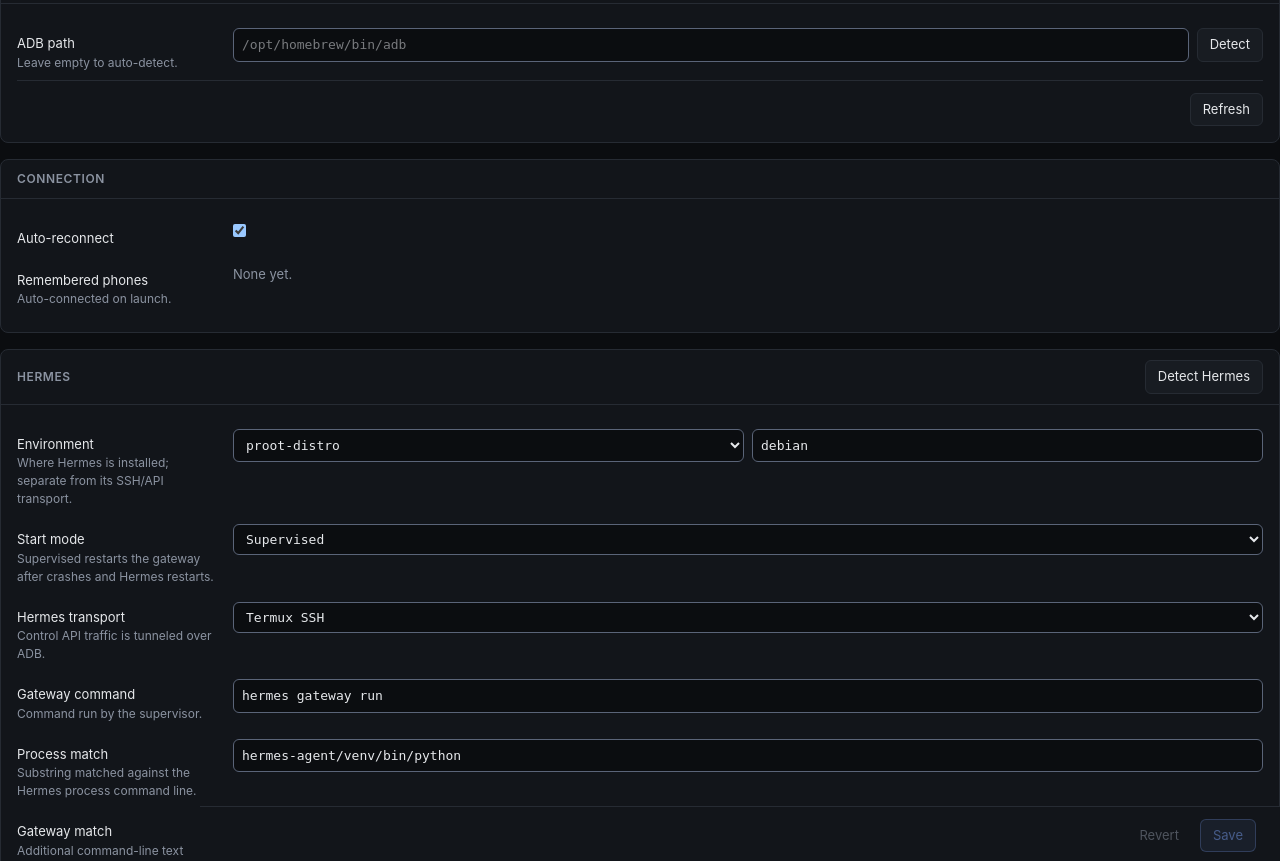
Test case: SettingsView › shows validation errors from the backend
Type "/nope" into the field named "ADB path" at [711, 45], box [233,28,1189,62]
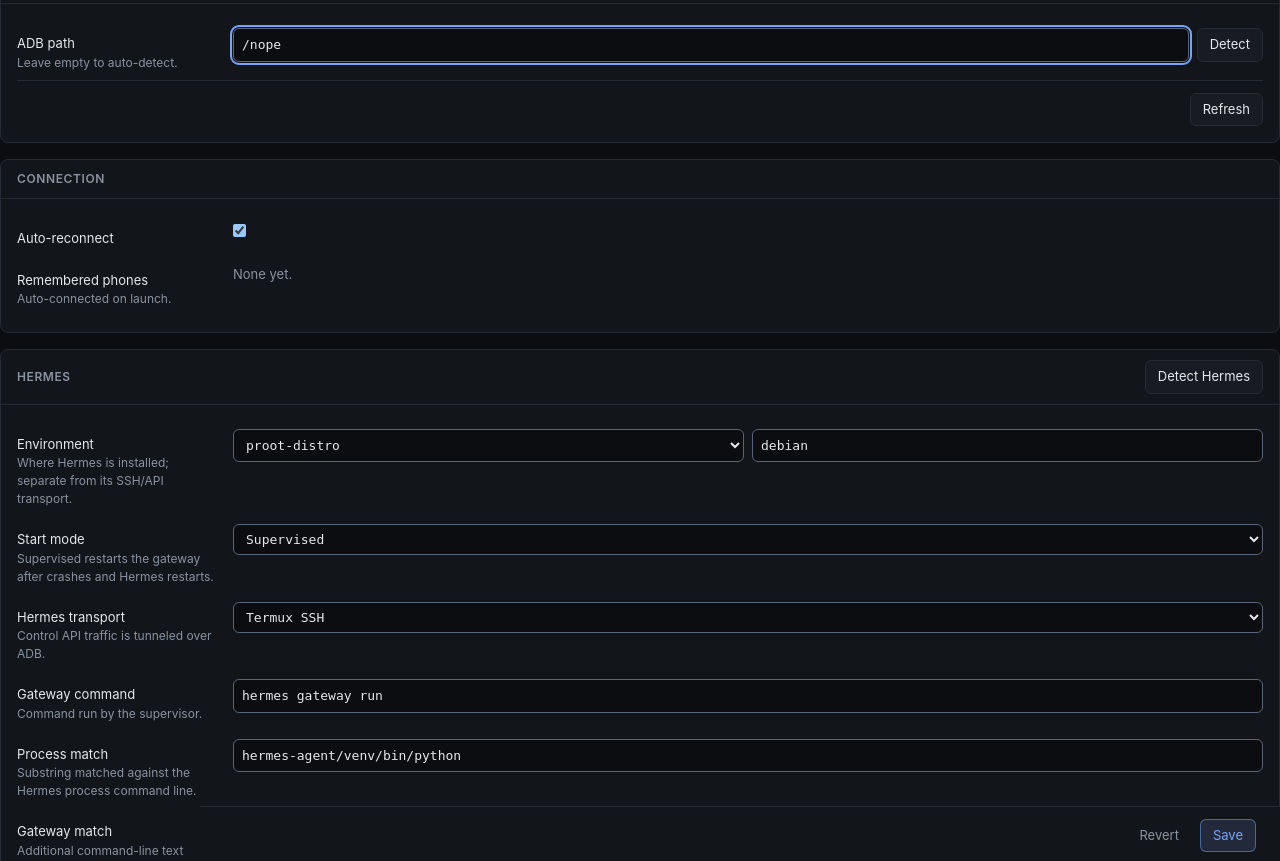
Click the button "Save" at [1228, 835], box [1200,818,1256,852]
(page scrolled)
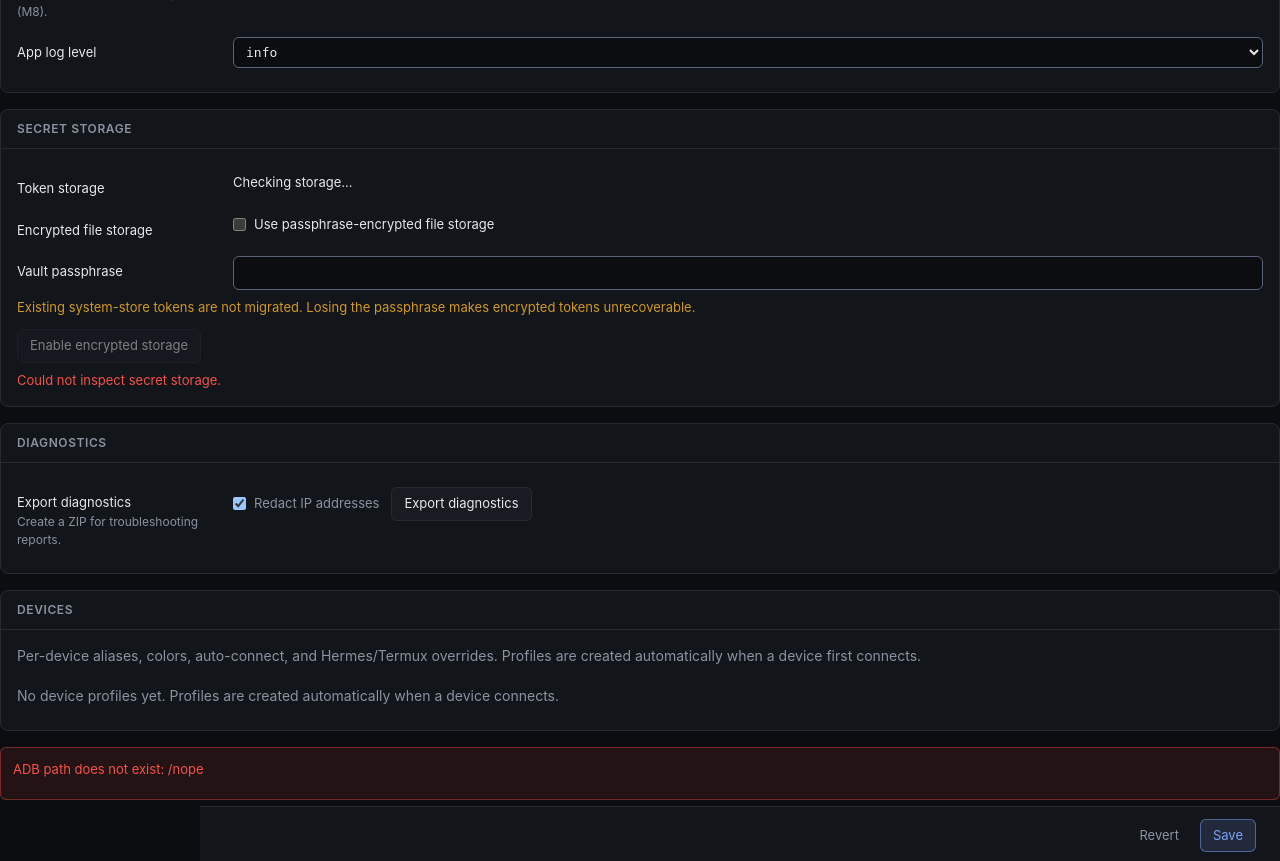
Result: the text "ADB path does not exist: /nope" is shown at [13,760,204,776]
